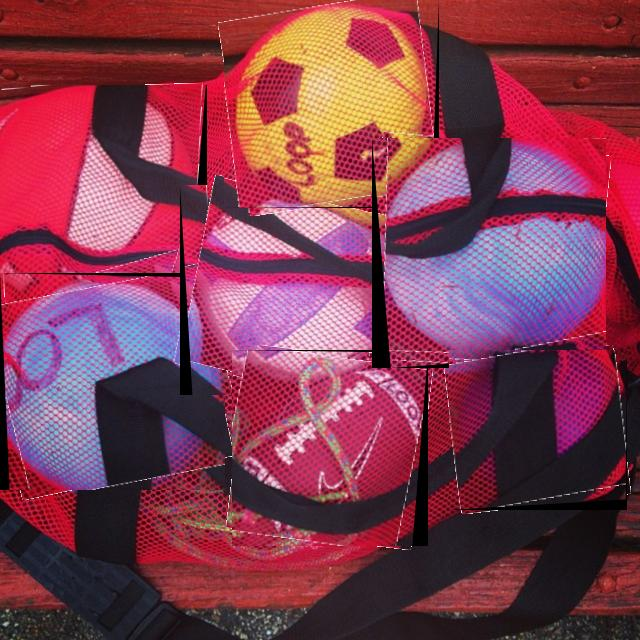Football: (372, 138, 606, 368), (0, 273, 225, 490), (0, 85, 207, 304), (224, 0, 439, 208), (180, 185, 392, 395), (232, 350, 428, 546), (449, 350, 627, 510)
